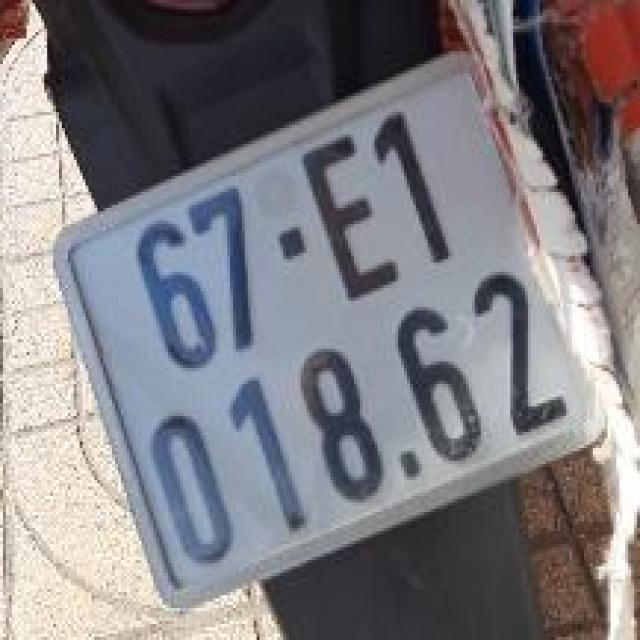0: (137, 400, 253, 580)
1: (359, 96, 479, 283), (214, 366, 326, 551)
2: (456, 252, 584, 452)
6: (382, 293, 500, 478), (127, 206, 230, 384)
7: (174, 174, 282, 372)
8: (287, 331, 398, 517)
E: (291, 119, 412, 318)
